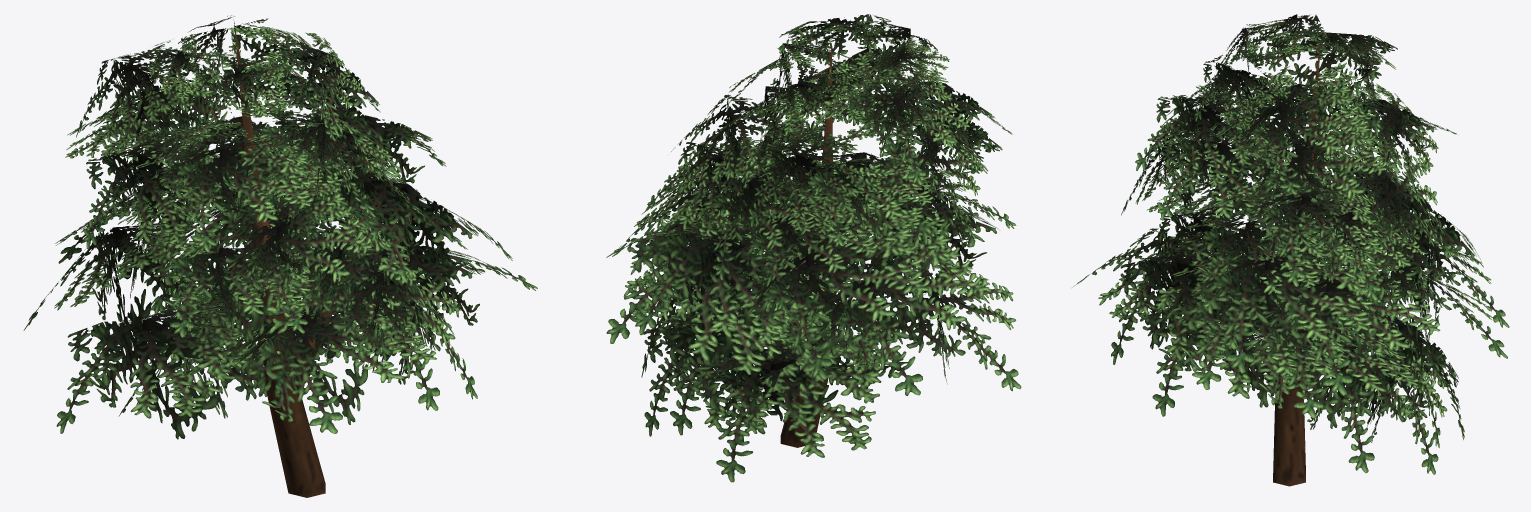
File: Tree_03_Mid.fbx
3 views of the same model, side by side, from view 1: azimuth 30°, elevation 25°; view 2: azimuth 150°, elevation 25°; view 3: azimuth 270°, elevation 25° (orthographic). The views are drawn at different scales.
Parts seen in each view (by area): view 1: polySurface57; view 2: polySurface57; view 3: polySurface57.
Part boxes in pixels (box(x1,y1,x2,y2)): polySurface57: box(23, 15, 537, 497); polySurface57: box(606, 14, 1021, 482); polySurface57: box(1072, 14, 1509, 486).
Bounding box in the file's own units: 6.98 × 6.65 × 6.6.
1 material, 1 textured.
